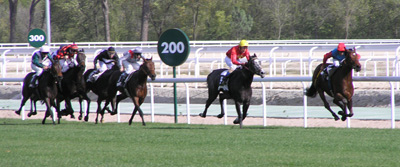person: (219, 40, 253, 97), (116, 49, 149, 90), (322, 43, 353, 83)
